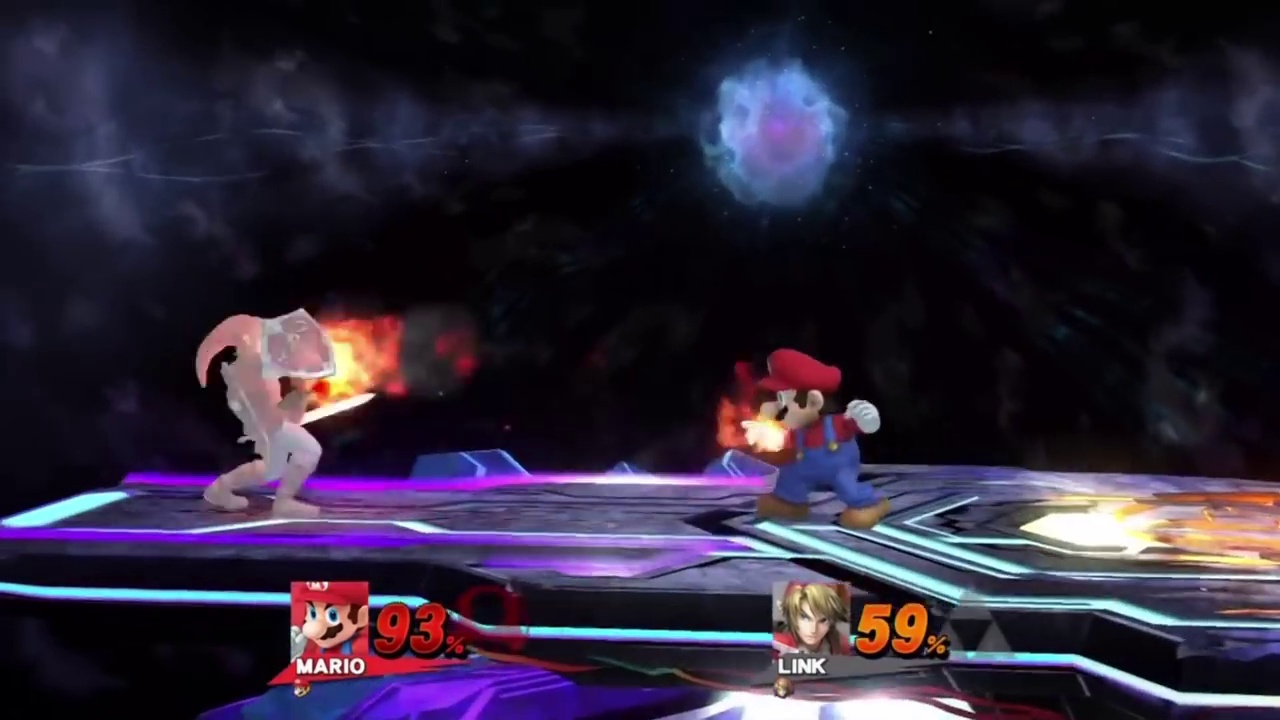Mario: (744, 350, 891, 527)
